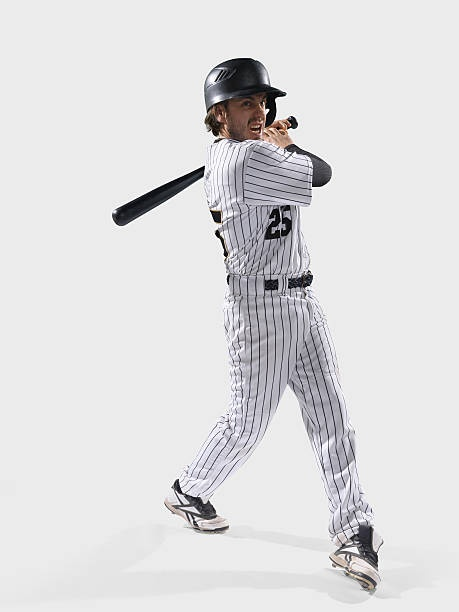bita: (110, 162, 217, 230)
